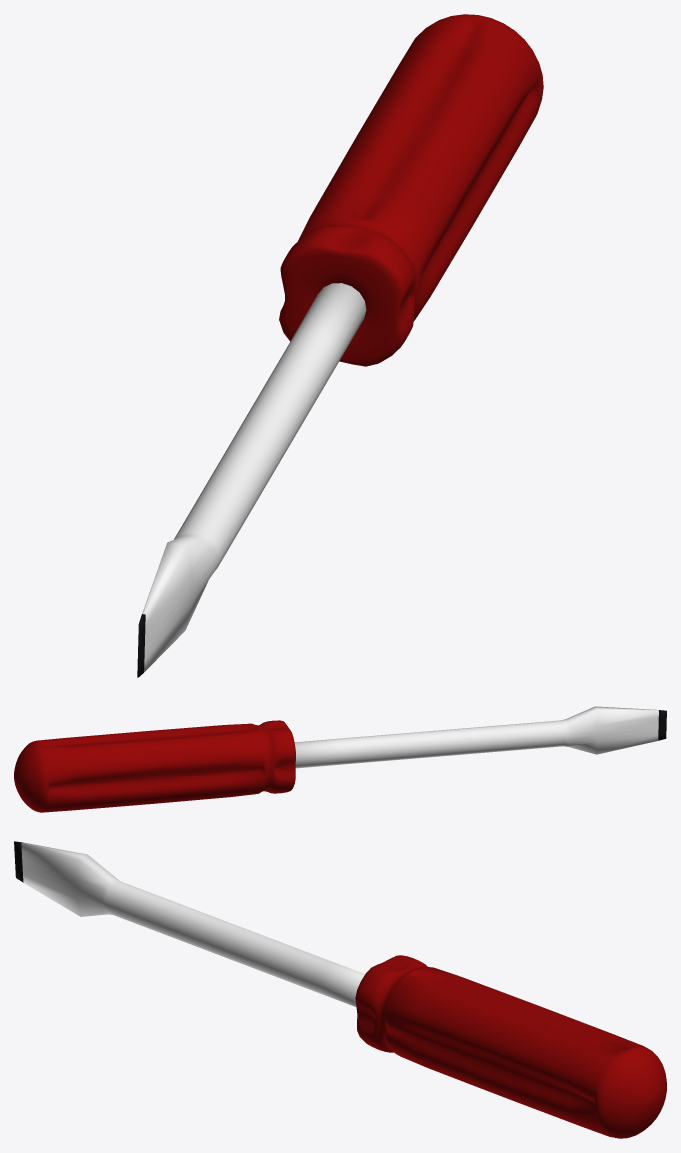
File: screwdriver.obj
3 views of the same model, one above another, from view 1: azimuth 30°, elevation 25°; view 2: azimuth 150°, elevation 25°; view 3: azimuth 270°, elevation 25° (orthographic). The views are drawn at different scales.
Visible parts, largest first — view 1: handle, neck; view 2: handle, neck, tip; view 3: handle, neck.
Boxes of the visible parts, x1,y1,x2,y2 form: handle: [279, 14, 543, 366]; neck: [142, 283, 366, 672]; handle: [14, 720, 295, 812]; neck: [294, 706, 658, 768]; tip: [658, 710, 666, 740]; handle: [355, 955, 666, 1138]; neck: [21, 842, 365, 1006].
Size of the model in its own units: 9.17 by 1.49 by 9.2.
